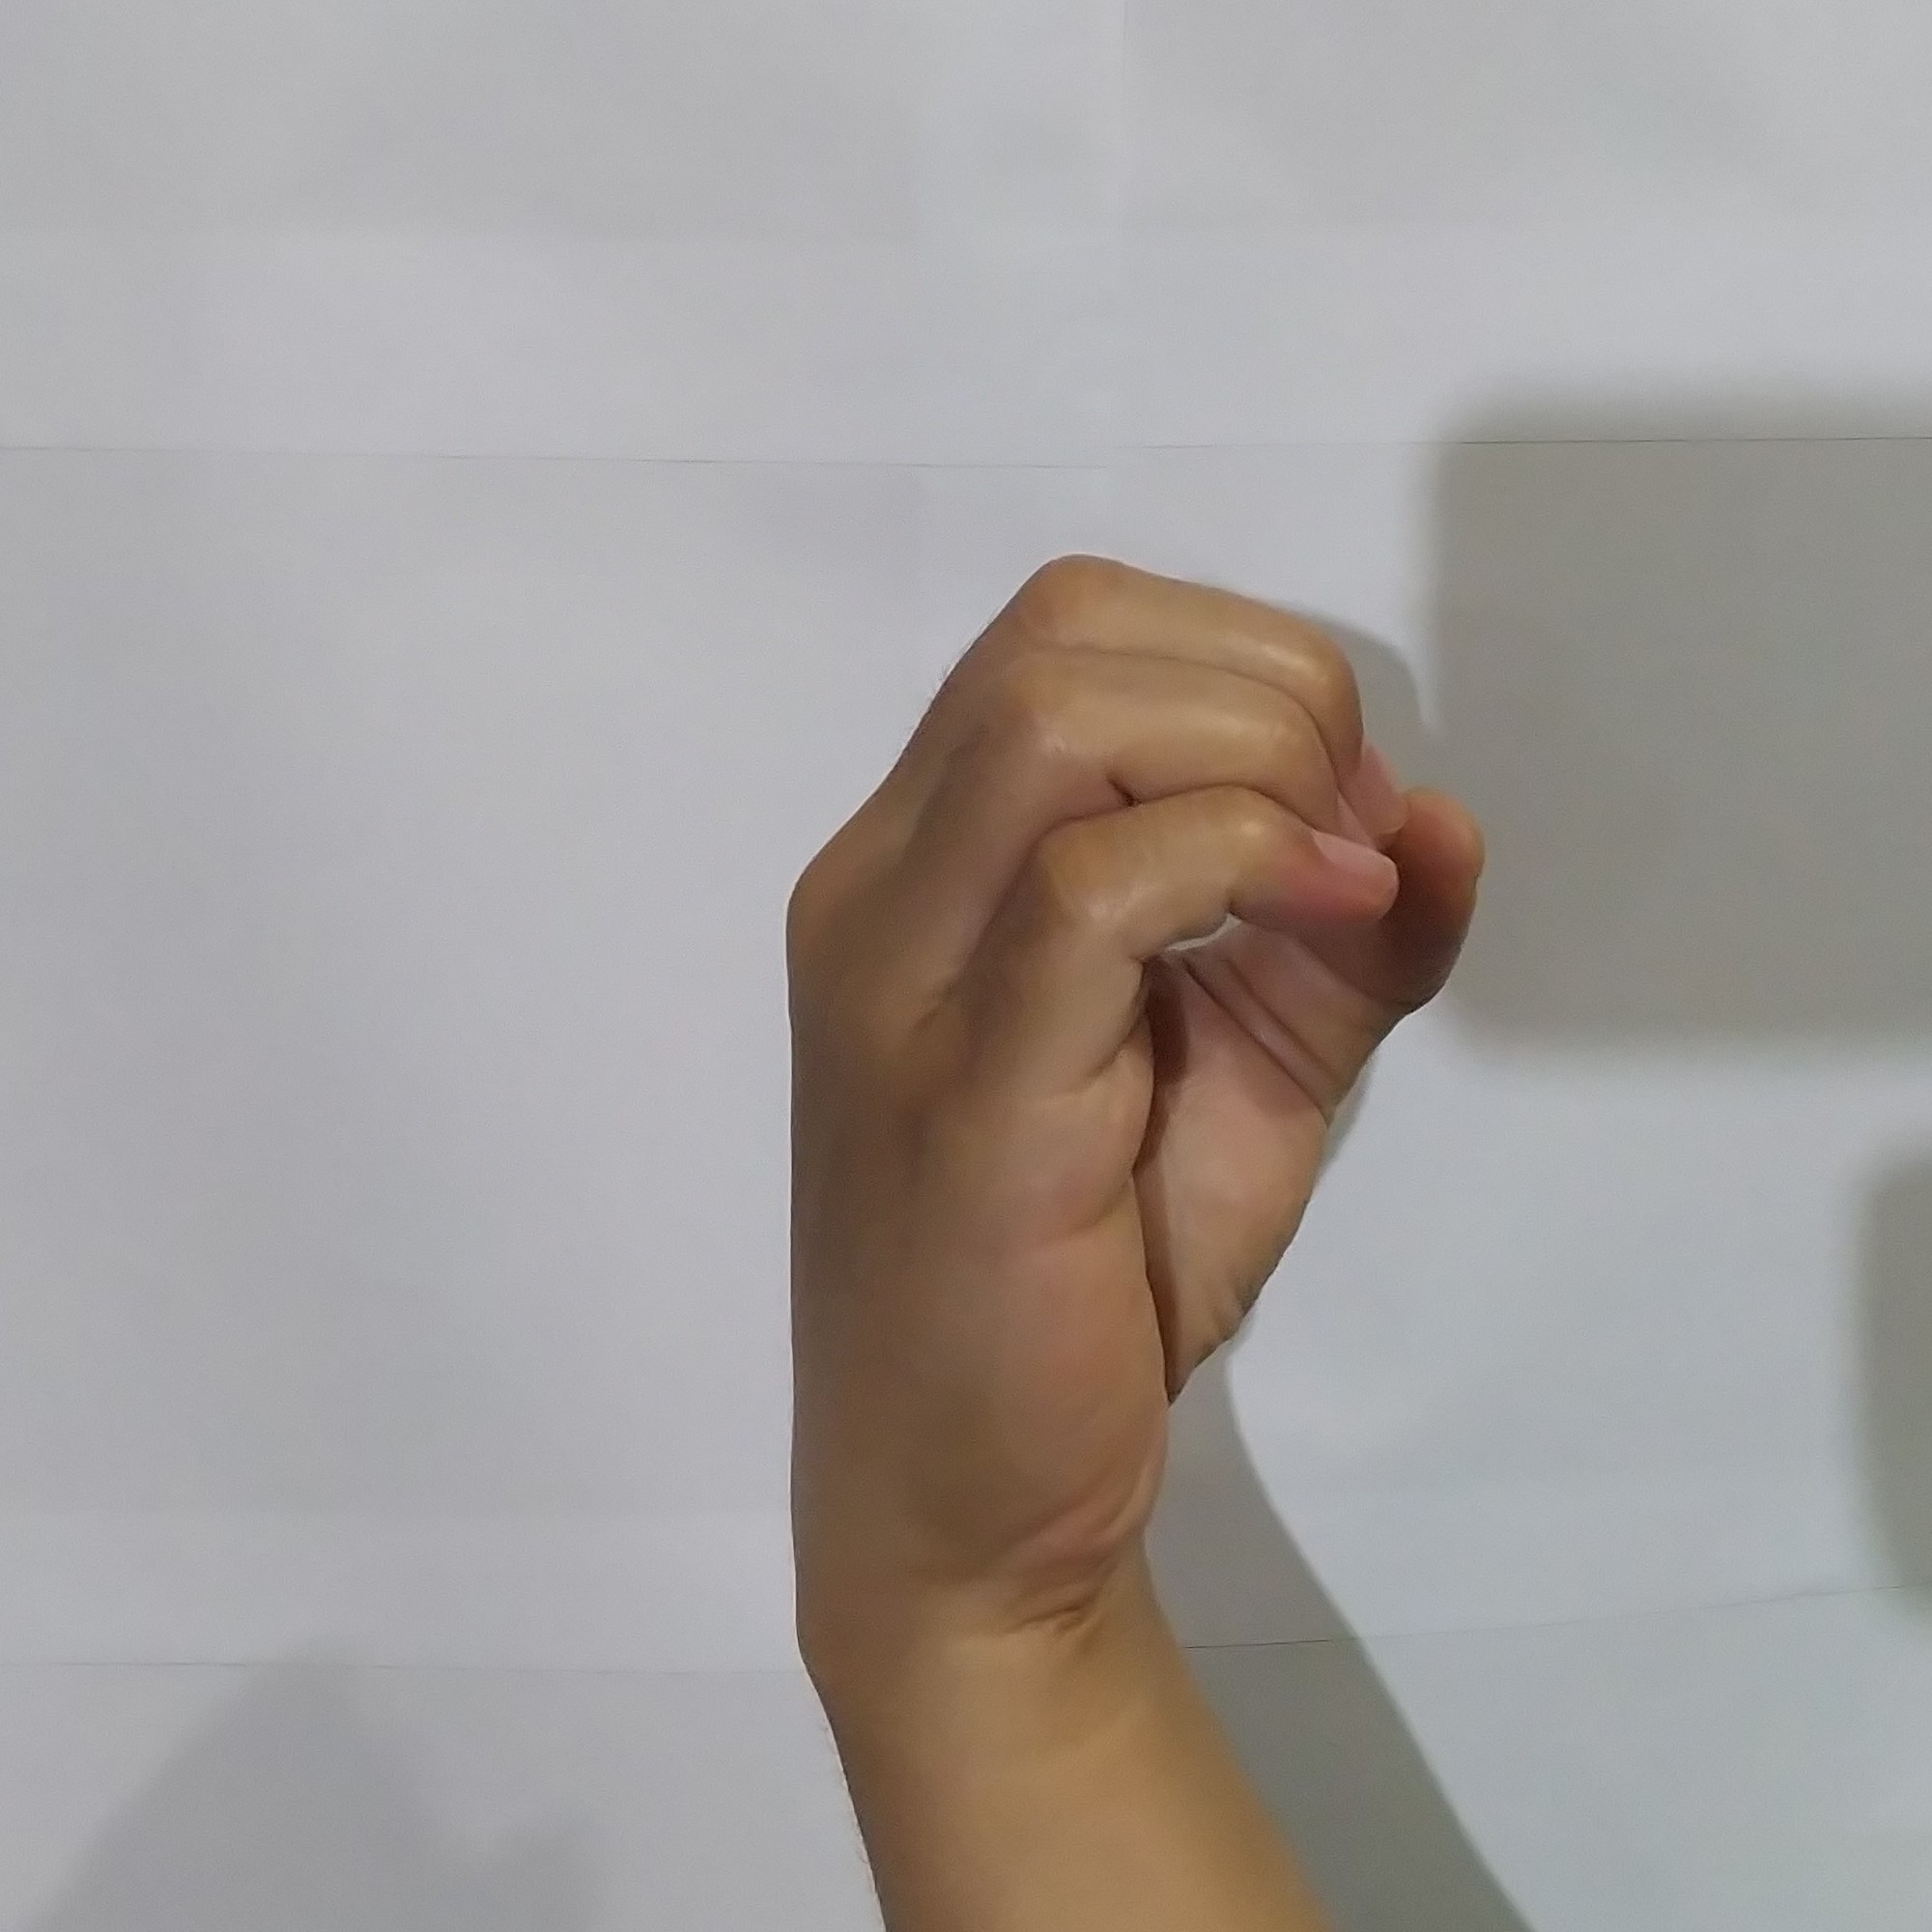O: (725, 518, 1520, 1591)
